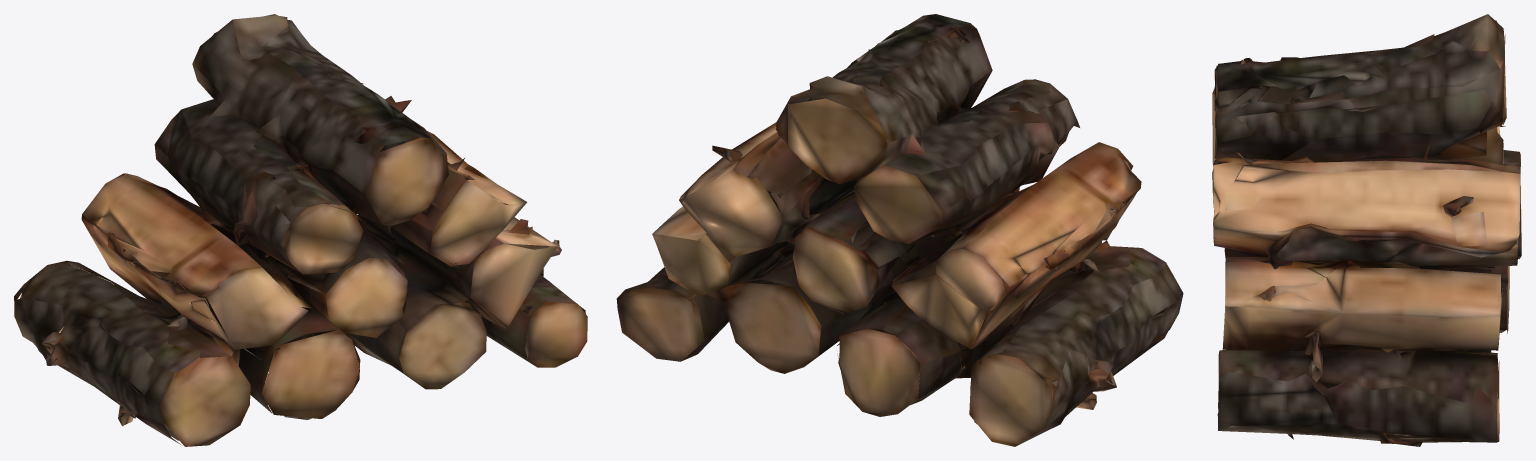
The model's file is lena.movil.glb.
The picture shows the model from 3 angles, left to right: view 1: azimuth 30°, elevation 25°; view 2: azimuth 150°, elevation 25°; view 3: azimuth 270°, elevation 25°; orthographic projection. The views are drawn at different scales.
Parts seen in each view (by area): view 1: geometry_0; view 2: geometry_0; view 3: geometry_0.
Boxes of the visible parts, box(x1,y1,x2,y2) form: geometry_0: box(14, 14, 587, 446); geometry_0: box(616, 14, 1183, 446); geometry_0: box(1212, 14, 1521, 446).
Bounding box in the file's own units: 0.9 × 0.5969 × 0.4988.
1 material, 1 textured.
